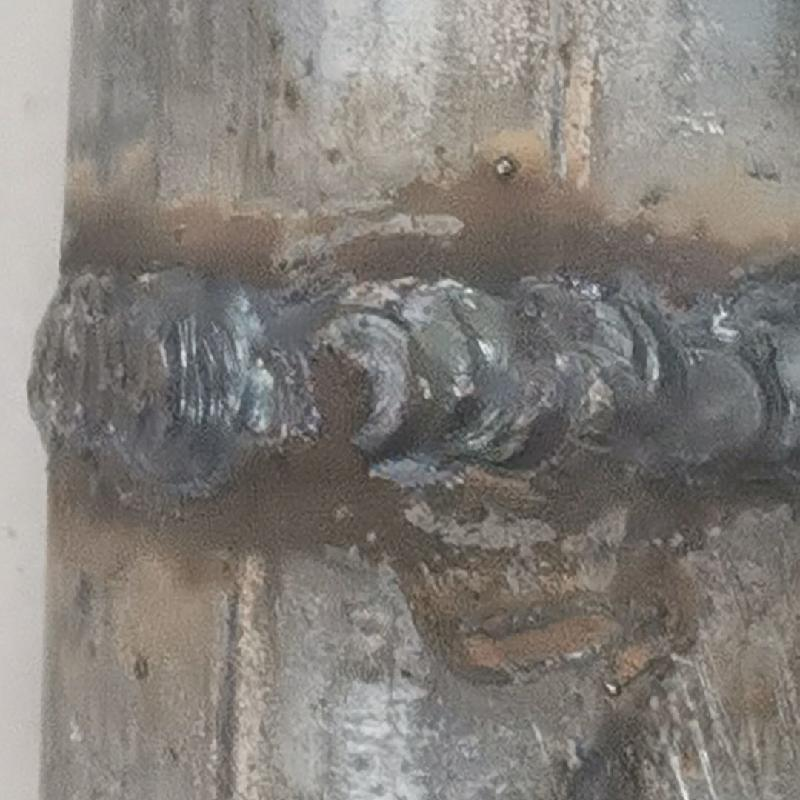good: (18, 257, 799, 480)
